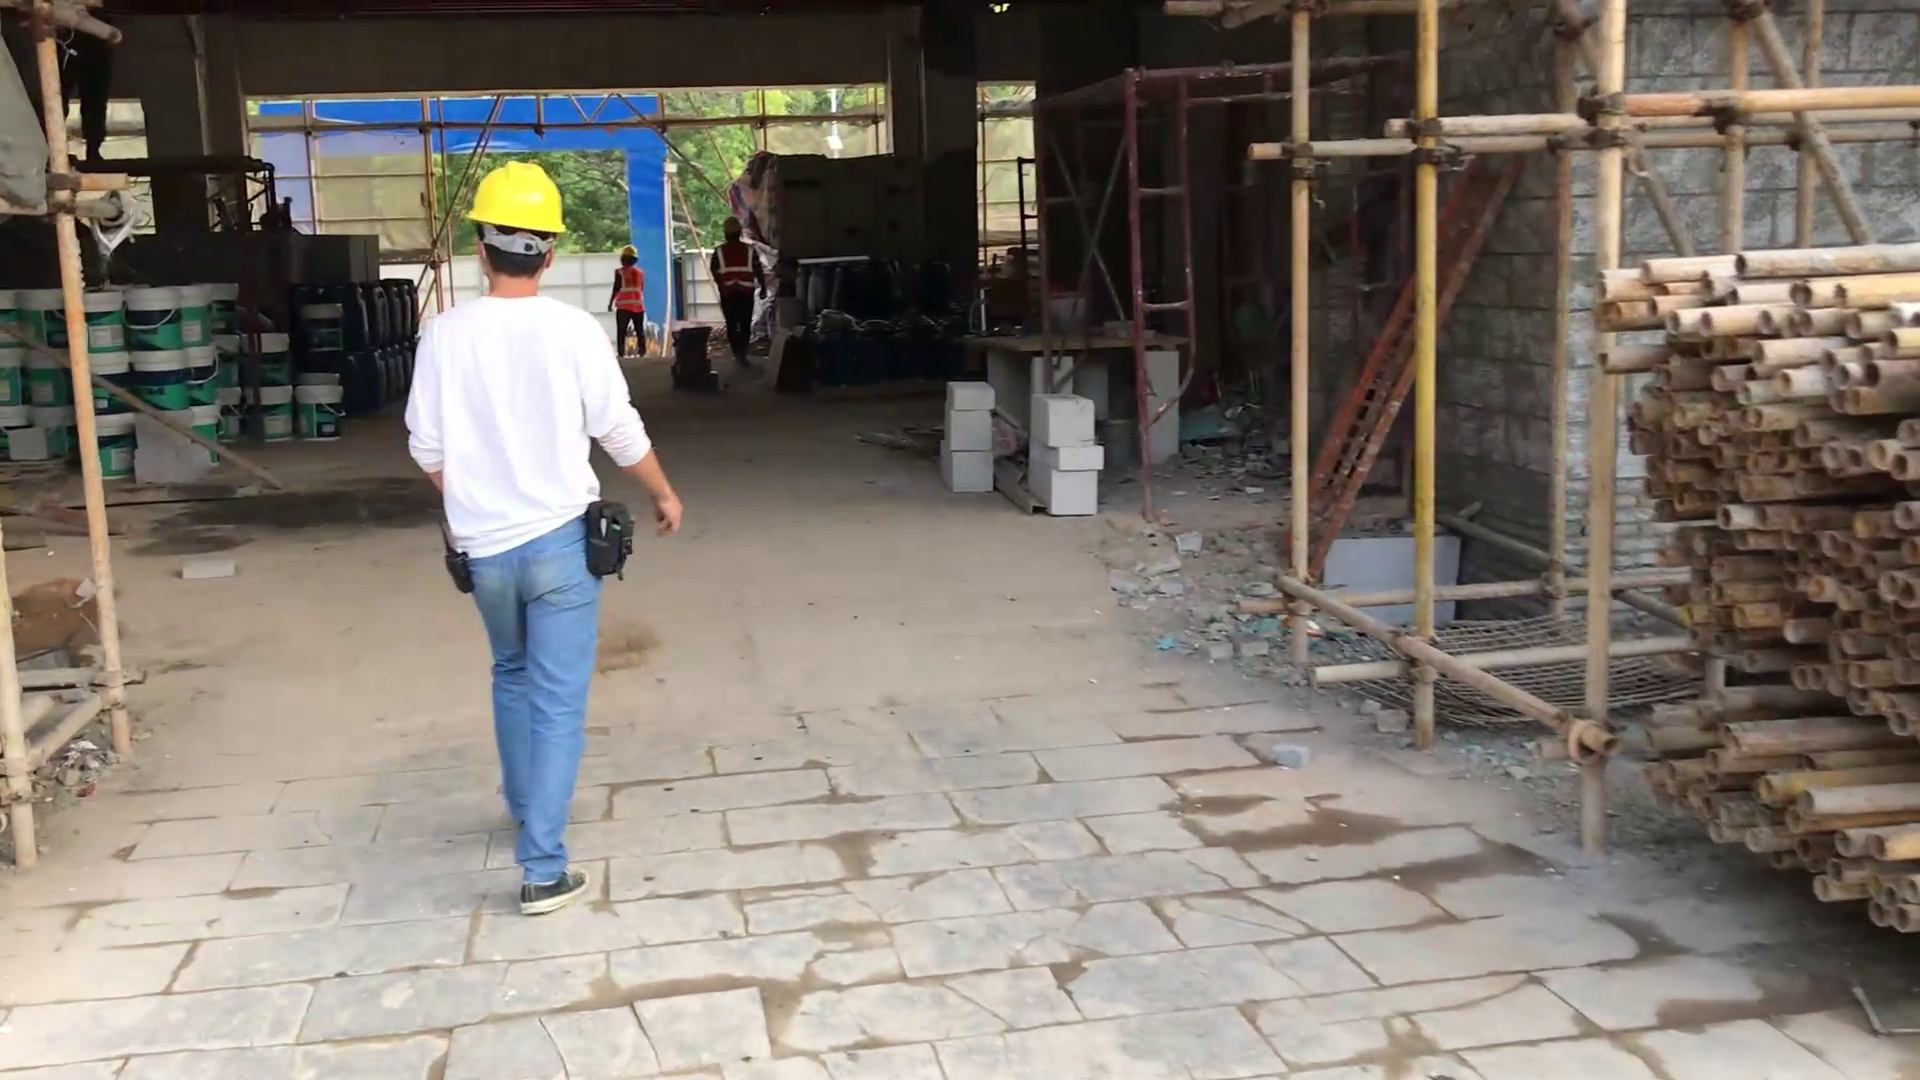helmet: (441, 156, 578, 243), (617, 234, 647, 261)
person: (396, 150, 674, 930), (697, 194, 775, 374), (606, 232, 655, 364)
vest: (708, 239, 763, 297), (613, 260, 651, 319)
